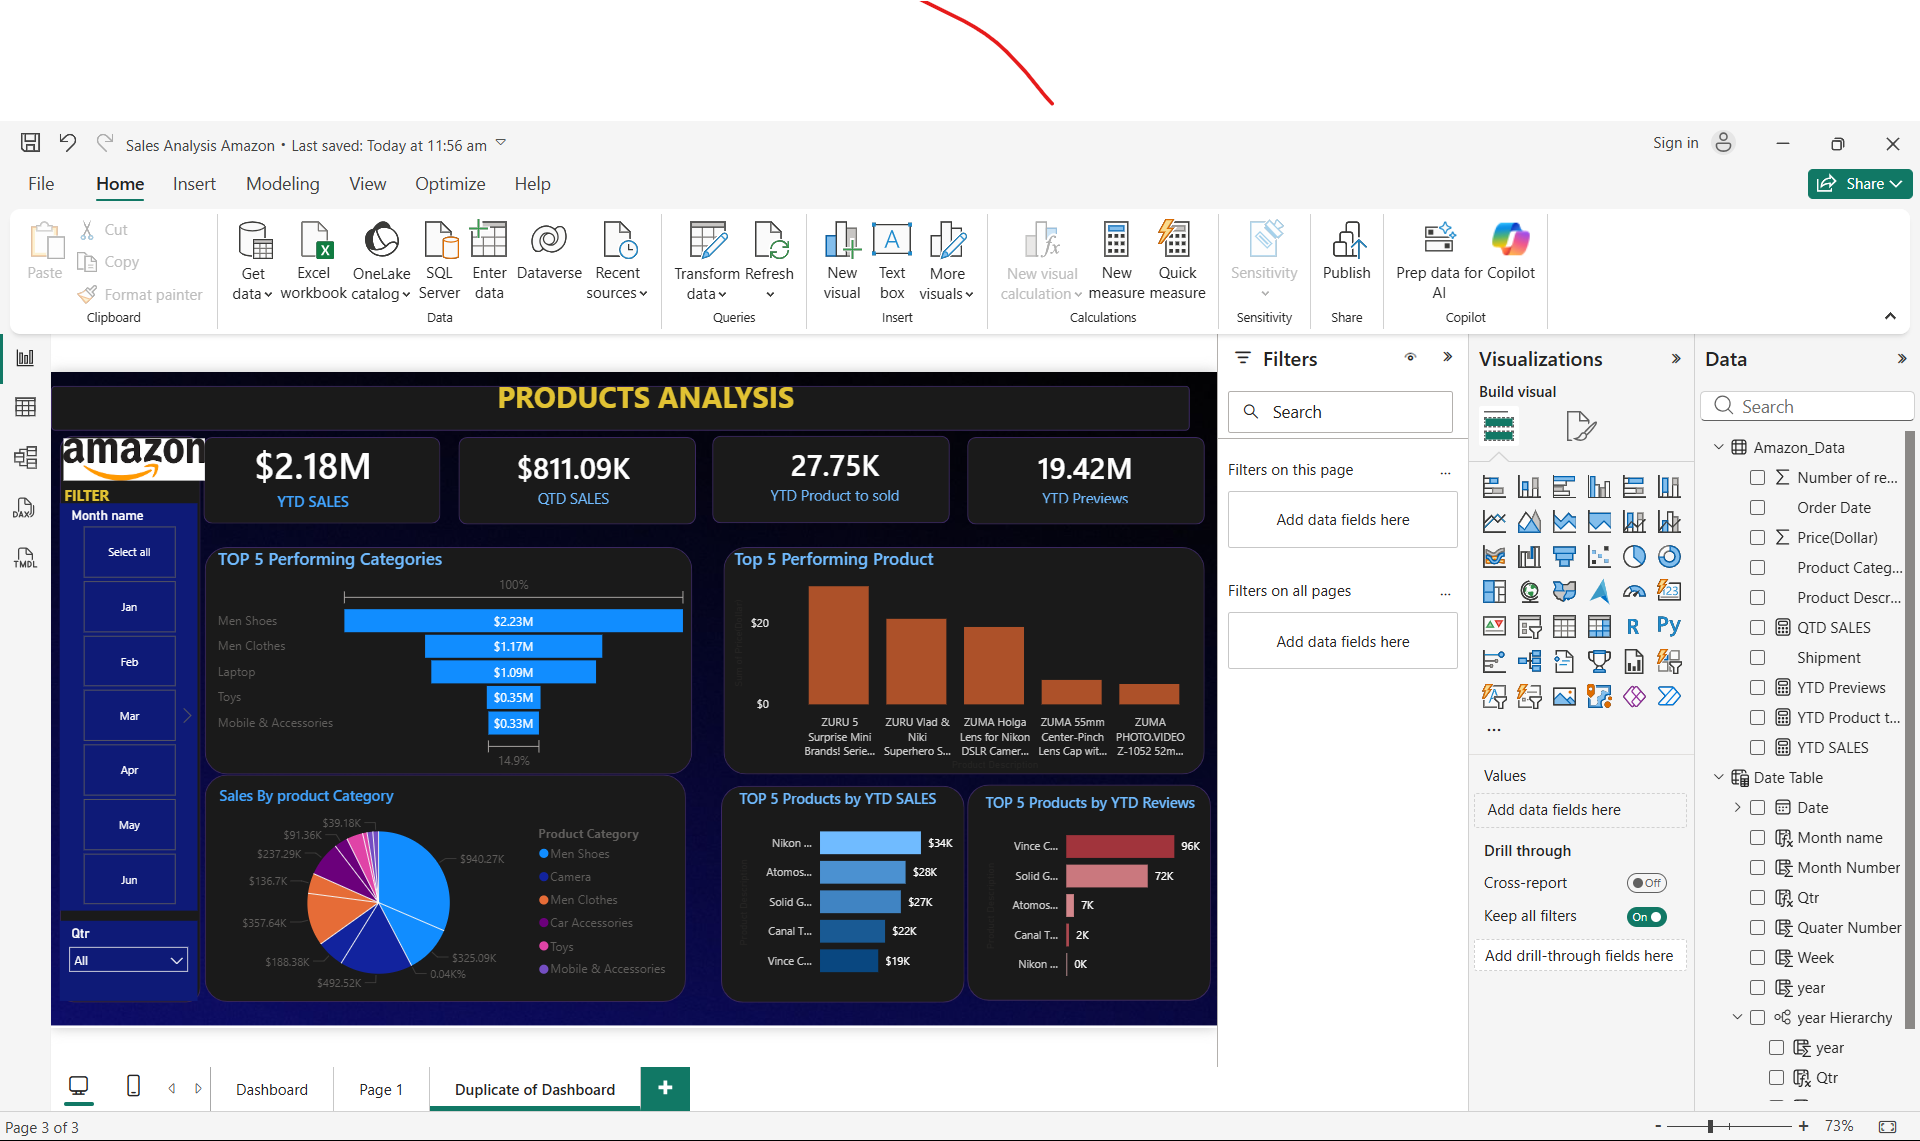

The page's visual inventory and layout, read from the dashboard file:
{"tool":"powerbi","page":{"name":"Product Analysis","canvas":[1280,720],"ordinal":0},"visuals":[{"type":"shape","box":[0,15.1,1250.1,49.4],"z":0},{"type":"cardVisual","fields":{"Data":["Amazon_Data.YTD SALES"]},"box":[164.4,57.2,247,111.1],"z":0,"group":"g2"},{"type":"shape","box":[726.1,70,260.7,96.1],"z":500,"group":"g1"},{"type":"cardVisual","fields":{"Data":["Amazon_Data.YTD Product to sold"]},"box":[739.9,66.7,242.3,91.9],"z":1000,"group":"g2"},{"type":"shape","box":[9.8,69.9,154.6,622.1],"z":1000},{"type":"shape","box":[168.8,192.1,535.2,249.7],"z":2000},{"type":"cardVisual","fields":{"Data":["Amazon_Data.YTD Previews"]},"box":[1010.9,69.3,248.4,91.9],"z":3000,"group":"g2"},{"type":"group","id":"g1","title":"Group 1","box":[167.4,70,1099.1,97.4],"z":3000},{"type":"cardVisual","fields":{"Data":["Amazon_Data.QTD SALES"]},"box":[450.6,65.1,244.3,100.2],"z":3500,"group":"g2"},{"type":"shape","box":[167.4,71.4,260,95],"z":3500,"group":"g1"},{"type":"shape","box":[447.3,71.4,260.7,96.1],"z":3750,"group":"g1"},{"type":"group","id":"g2","title":"Group 2","box":[164.4,57.2,1094.9,111.1],"z":4000},{"type":"shape","box":[738.3,192.1,528.3,249.7],"z":5000},{"type":"shape","box":[1005.8,71.4,260.7,96.1],"z":5500,"group":"g1"},{"type":"columnChart","title":"Top 5 Performing Product","fields":{"Category":["Amazon_Data.Product Description"],"Y":["Sum(Amazon_Data.Price(Dollar))"]},"box":[745.1,192.1,535.2,249.7],"z":6000},{"type":"shape","box":[168.8,441.9,528.3,249.7],"z":7000},{"type":"pieChart","title":"Sales By product Category","fields":{"Category":["Amazon_Data.Product Category"],"Y":["Amazon_Data.YTD SALES","Amazon_Data.QTD SALES","Divide(Amazon_Data.YTD SALES, ScopedEval(Amazon_Data.YTD SALES, []))"]},"box":[179.1,452.8,509.2,238],"z":8000},{"type":"shape","box":[1005.8,452.8,267.6,237.4],"z":9000},{"type":"shape","box":[735,454,267.5,238],"z":10000},{"type":"clusteredBarChart","title":"TOP 5 Products by YTD SALES  ","fields":{"Category":["Amazon_Data.Product Description"],"Y":["Amazon_Data.YTD SALES"]},"box":[750.6,456.9,252.5,220.9],"z":11000},{"type":"clusteredBarChart","title":"TOP 5 Products by YTD Reviews","fields":{"Category":["Amazon_Data.Product Description"],"Y":["Amazon_Data.YTD Previews"]},"box":[1020.9,461.1,252.5,220.9],"z":12000},{"type":"slicer","fields":{"Values":["Date Table.Month name"]},"box":[9.6,144.1,150.9,447.3],"z":13000},{"type":"slicer","fields":{"Values":["Date Table.Qtr"]},"box":[9.6,602.4,150.9,87.8],"z":14000},{"type":"image","box":[13.7,57.6,155.1,76.8],"z":15000},{"type":"textbox","box":[380.4,0,563.2,57.7],"z":16000},{"type":"textbox","box":[9.6,119.4,90.6,39.8],"z":17000},{"type":"funnel","title":"TOP 5 Performing Categories","fields":{"Category":["Amazon_Data.Product Category"],"Y":["Sum(Amazon_Data.Price(Dollar))"]},"box":[178.4,192.1,525.6,249.7],"z":18000}]}

Visuals, with their boxes on the page's 1280x720 design canvas (x1, y1, x2, y2). These are canvas units, not pixel positions in the 1920x1141 screenshot, which may show the page scaled, cropped or inside an application window:
shape: left=0, top=15, right=1250, bottom=64
cardVisual - Amazon_Data.YTD SALES: left=164, top=57, right=411, bottom=168
shape: left=726, top=70, right=987, bottom=166
cardVisual - Amazon_Data.YTD Product to sold: left=740, top=67, right=982, bottom=159
shape: left=10, top=70, right=164, bottom=692
shape: left=169, top=192, right=704, bottom=442
cardVisual - Amazon_Data.YTD Previews: left=1011, top=69, right=1259, bottom=161
"Group 1" group: left=167, top=70, right=1266, bottom=167
cardVisual - Amazon_Data.QTD SALES: left=451, top=65, right=695, bottom=165
shape: left=167, top=71, right=427, bottom=166
shape: left=447, top=71, right=708, bottom=168
"Group 2" group: left=164, top=57, right=1259, bottom=168
shape: left=738, top=192, right=1267, bottom=442
shape: left=1006, top=71, right=1266, bottom=168
"Top 5 Performing Product" columnChart: left=745, top=192, right=1280, bottom=442
shape: left=169, top=442, right=697, bottom=692
"Sales By product Category" pieChart: left=179, top=453, right=688, bottom=691
shape: left=1006, top=453, right=1273, bottom=690
shape: left=735, top=454, right=1002, bottom=692
"TOP 5 Products by YTD SALES  " clusteredBarChart: left=751, top=457, right=1003, bottom=678
"TOP 5 Products by YTD Reviews" clusteredBarChart: left=1021, top=461, right=1273, bottom=682
slicer - Date Table.Month name: left=10, top=144, right=160, bottom=591
slicer - Date Table.Qtr: left=10, top=602, right=160, bottom=690
image: left=14, top=58, right=169, bottom=134
textbox: left=380, top=0, right=944, bottom=58
textbox: left=10, top=119, right=100, bottom=159
"TOP 5 Performing Categories" funnel: left=178, top=192, right=704, bottom=442
